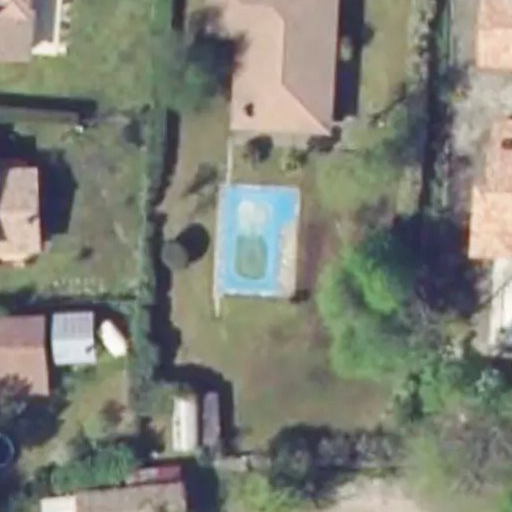pool: (229, 192, 281, 289)
